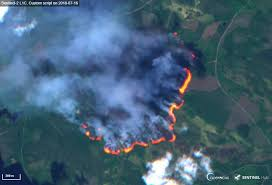yanwu: (0, 1, 195, 151)
